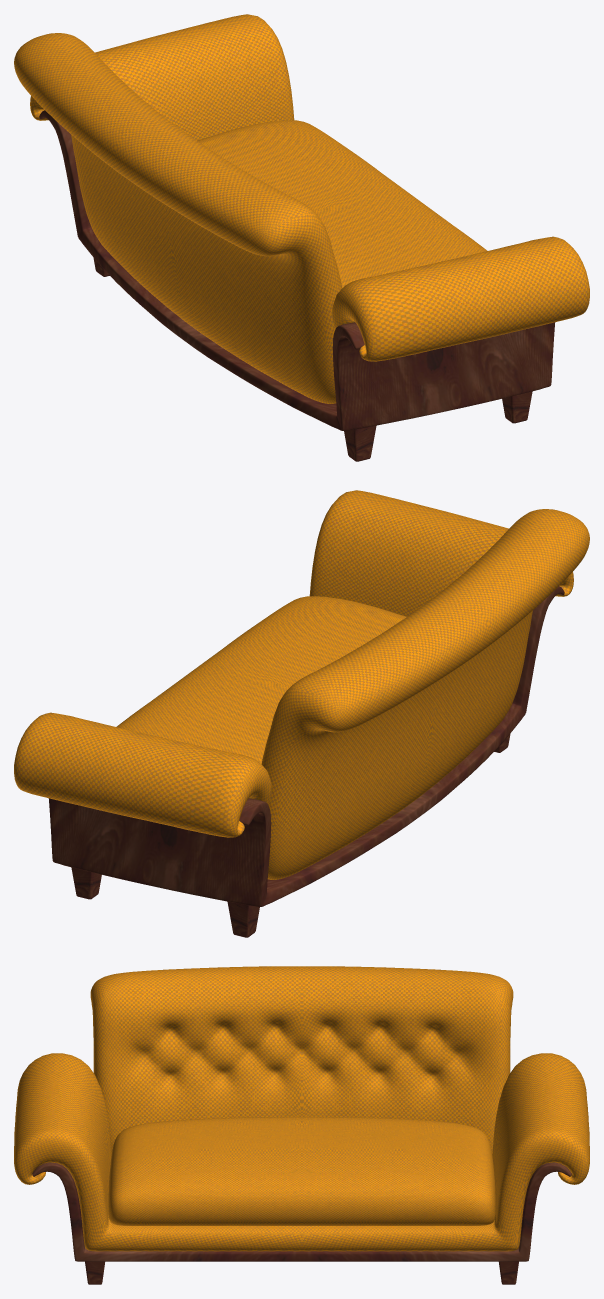
File: yellow_sofa_1.glb
3 renders of one model, top to bottom at view 1: azimuth 30°, elevation 25°; view 2: azimuth 150°, elevation 25°; view 3: azimuth 270°, elevation 25°, orthographic. The views are drawn at different scales.
Visible parts, largest first — view 1: Plane.029, Plane.031, Sofa, Plane.032, Plane.033; view 2: Plane.029, Plane.031, Sofa, Plane.032, Plane.033; view 3: Plane.029, Plane.032, Plane.031, Sofa, Plane.033.
Part boxes in pixels (box(x1,y1,x2,y2)): Plane.029: box(14, 33, 342, 403); Plane.031: box(30, 14, 589, 361); Sofa: box(39, 110, 555, 430); Plane.032: box(197, 120, 487, 287); Plane.033: box(93, 257, 532, 461); Plane.029: box(261, 509, 589, 879); Plane.031: box(14, 490, 573, 837); Sofa: box(48, 586, 564, 906); Plane.032: box(116, 596, 406, 763); Plane.033: box(71, 733, 510, 937); Plane.029: box(90, 966, 513, 1153); Plane.032: box(108, 1117, 495, 1225); Plane.031: box(14, 1053, 589, 1251); Sofa: box(32, 1162, 571, 1261); Plane.033: box(85, 1261, 518, 1284).
Bounding box in the file's own units: 2.27 × 1.84 × 4.45.
2 materials, 2 textured.
